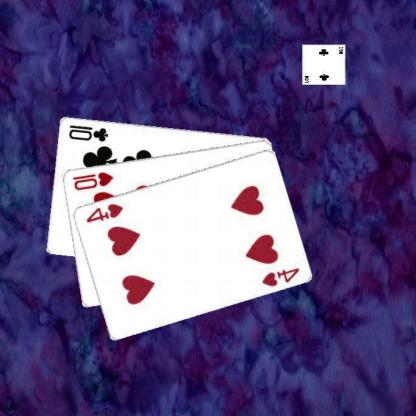10C: (68, 122, 111, 143)
10H: (72, 169, 116, 191)
4H: (84, 201, 126, 224), (260, 265, 302, 288)
